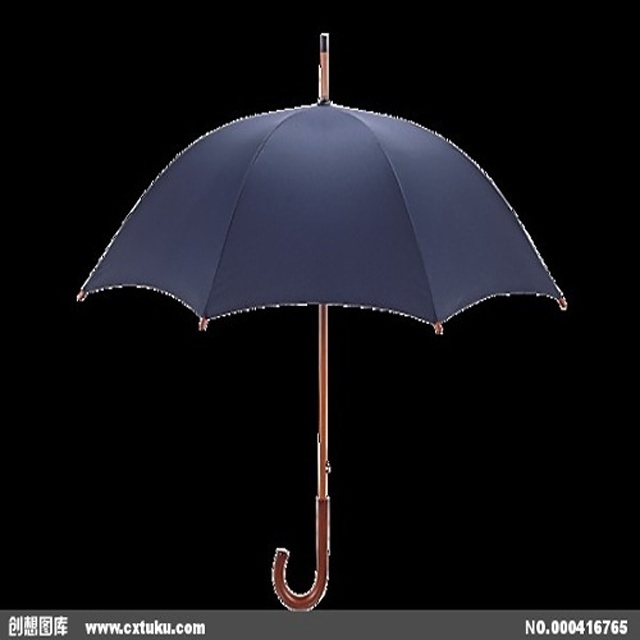umbrella: (75, 32, 579, 610)
